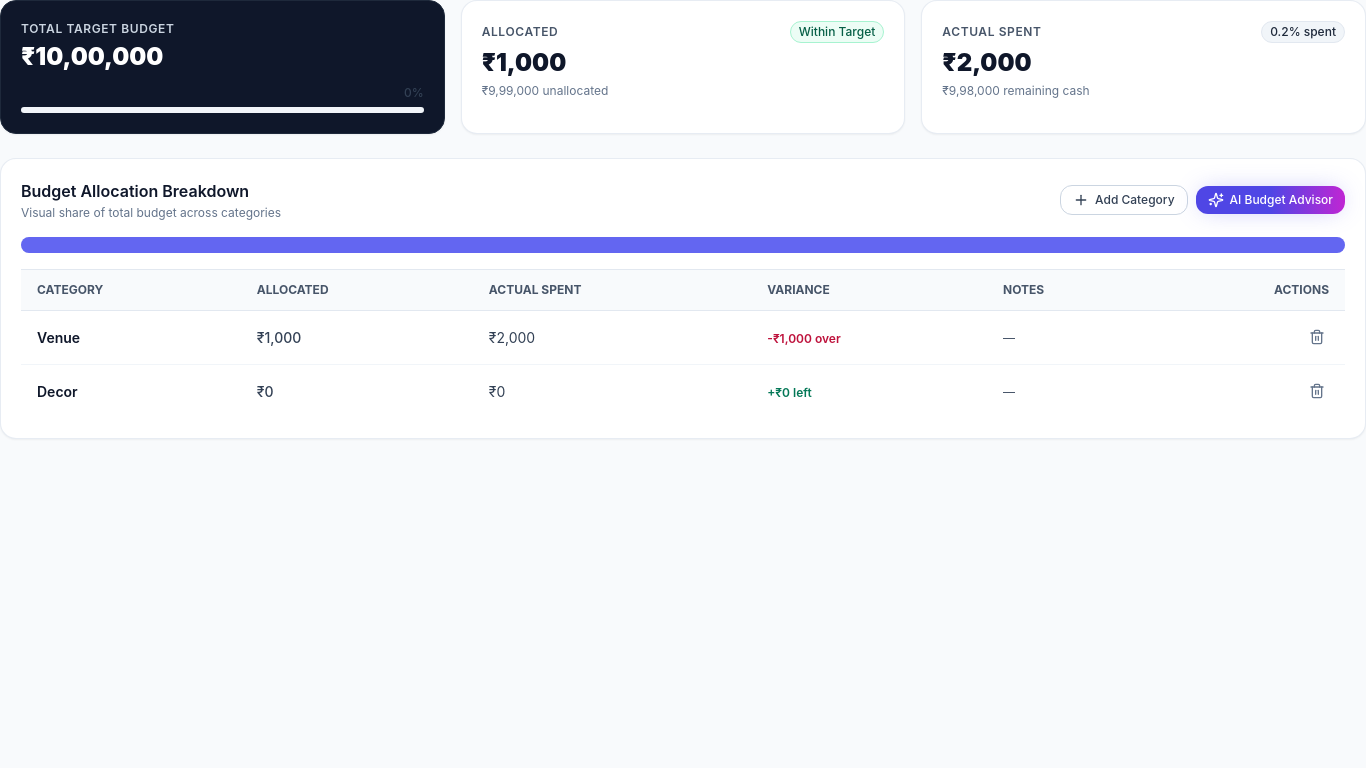
Test case: BudgetManager component › handles overspending category variance and zero total allocation
The image size is (1366, 768).
Expected: the text "-₹1,000 over" is shown, [767, 330, 841, 346]
# Click "Add Category" button
Click the button "Add Category" at (1124, 200), box [1060, 185, 1188, 215]
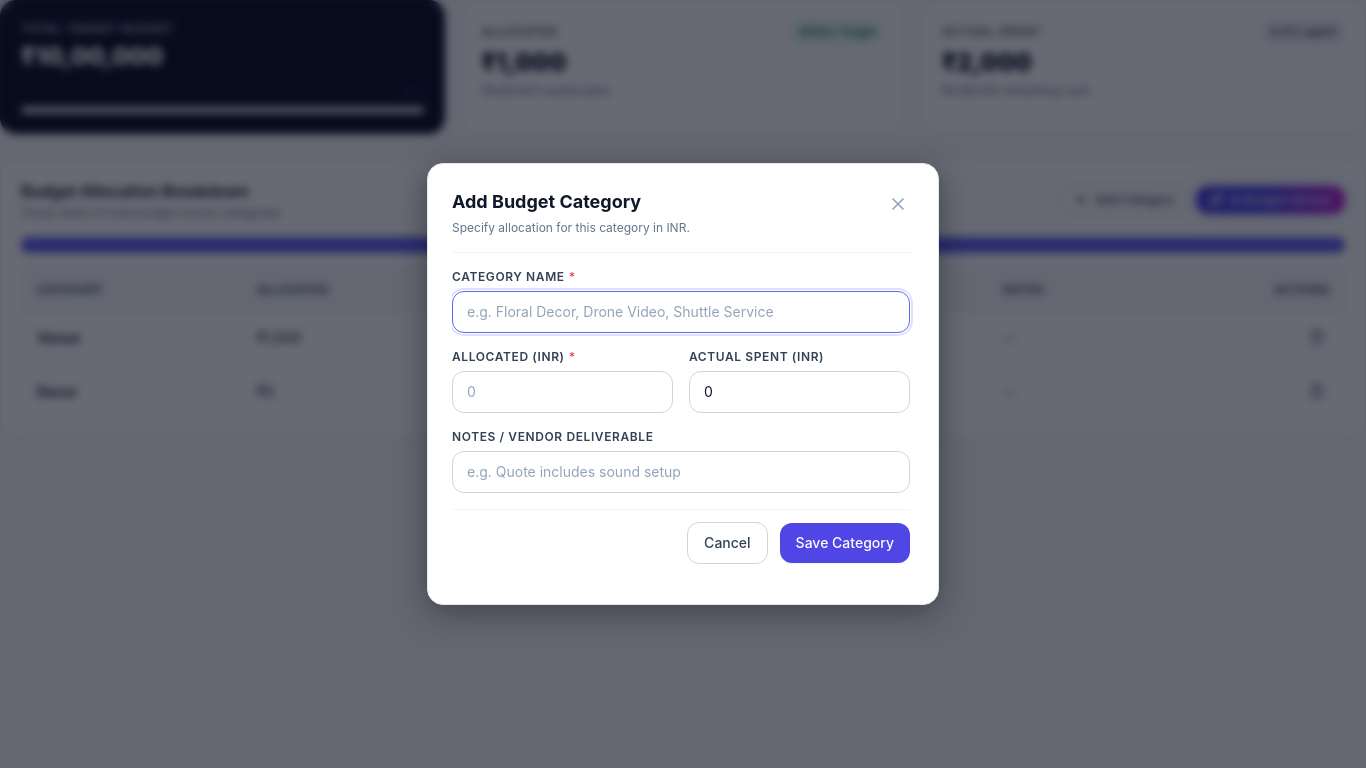
Now the heading "Add Budget Category" is shown, box [452, 191, 641, 212]
# Click Cancel in modal
Click the button "Cancel" at (727, 543), box [687, 522, 768, 564]
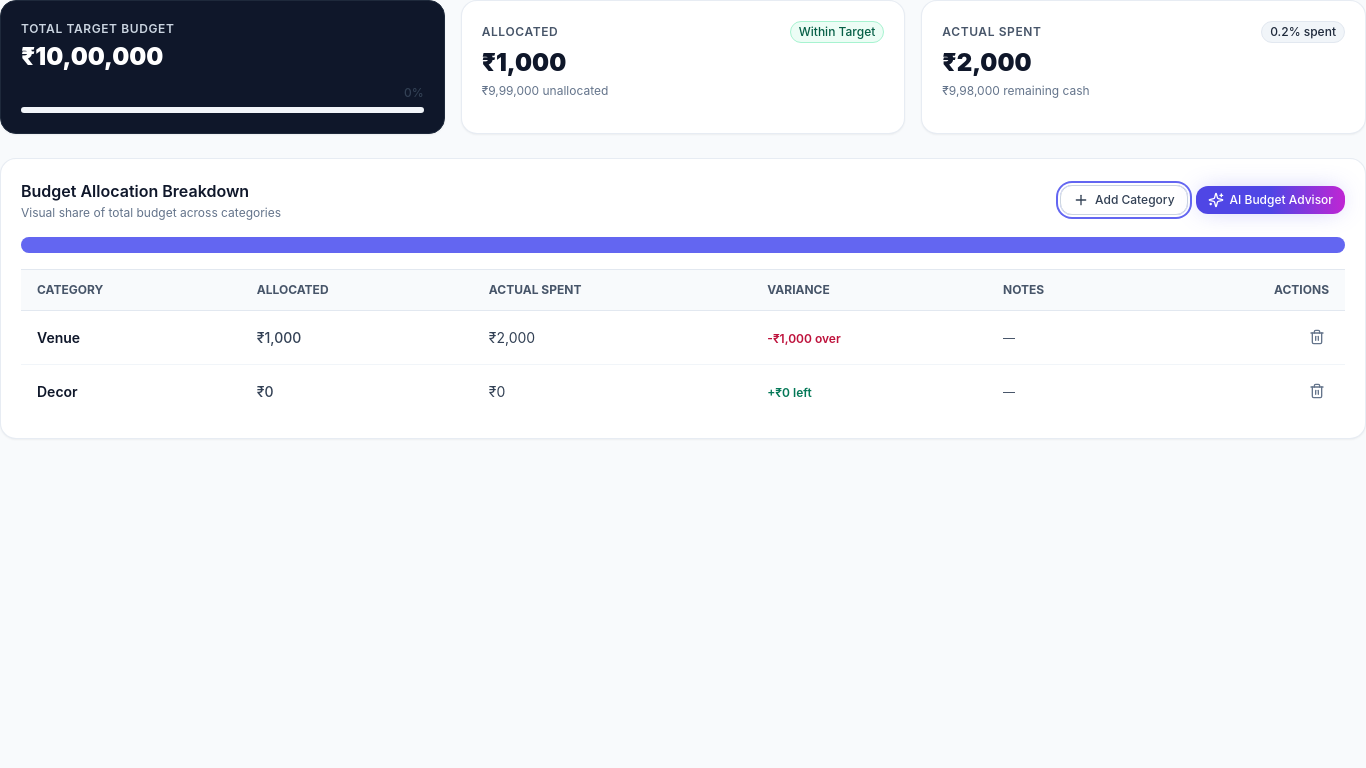
Now the heading "Add Budget Category" is gone
